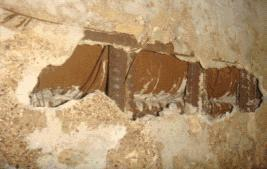Exposed reinforcement: (106, 43, 126, 111), (235, 66, 258, 114), (183, 60, 202, 115), (204, 101, 234, 117)
Spalling: (28, 29, 264, 122)
